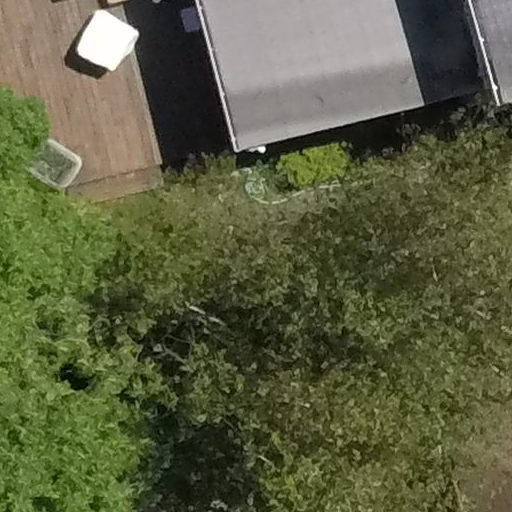container: (16, 133, 83, 189)
